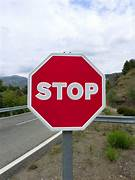stop: (27, 52, 107, 131)
